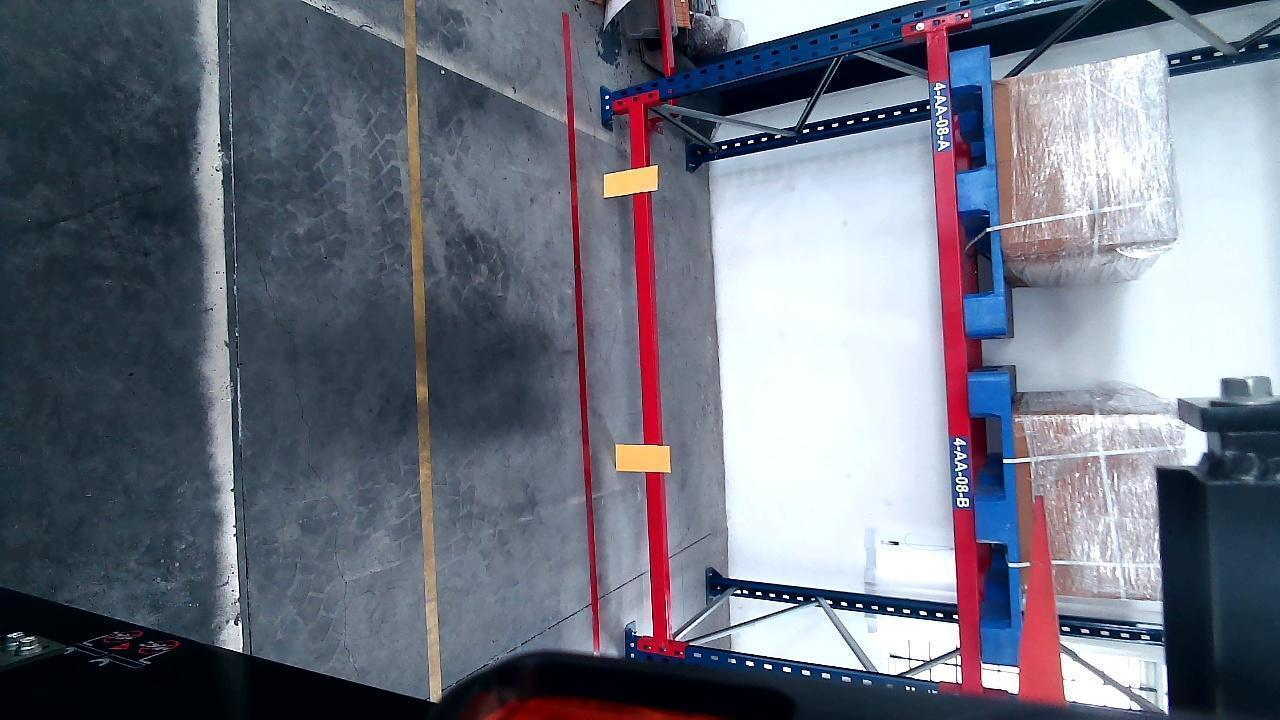red_line: (556, 13, 600, 650)
yellow_line: (405, 7, 449, 696)
